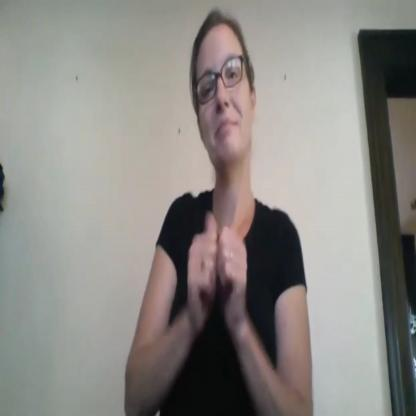HowAreYou: (183, 206, 257, 346)
